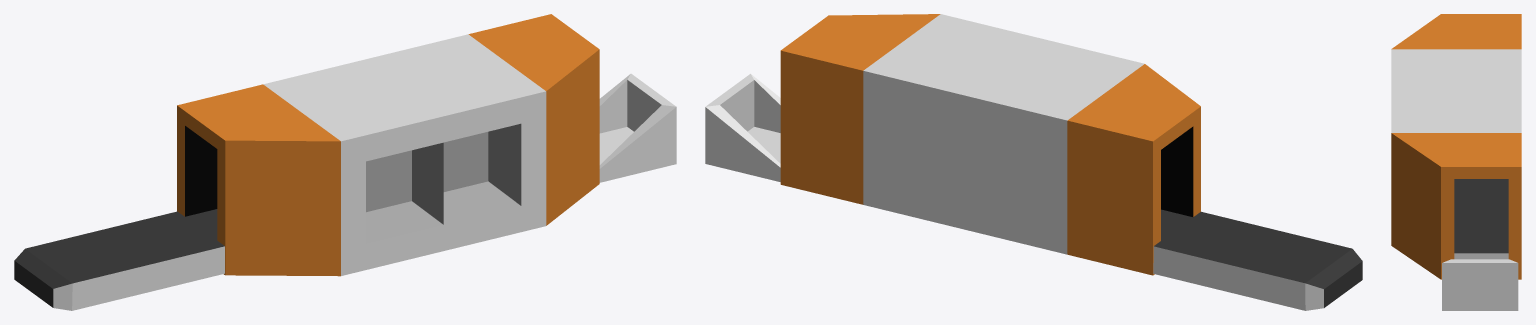
File: FOOD-O-TRON.fbx
The picture shows the model from 3 angles, left to right: view 1: azimuth 30°, elevation 25°; view 2: azimuth 150°, elevation 25°; view 3: azimuth 270°, elevation 25°; orthographic projection. The views are drawn at different scales.
Parts seen in each view (by area): view 1: Machine, Conveyor; view 2: Machine, Conveyor; view 3: Machine, Conveyor.
Boxes of the visible parts, x1=… form: Machine: x1=177, y1=14, x2=599, y2=276; Conveyor: x1=14, y1=73, x2=676, y2=310; Machine: x1=780, y1=14, x2=1200, y2=275; Conveyor: x1=705, y1=73, x2=1362, y2=310; Machine: x1=1391, y1=14, x2=1521, y2=279; Conveyor: x1=1442, y1=179, x2=1518, y2=310.
Size of the model in its own units: 1483 by 309 by 323.
